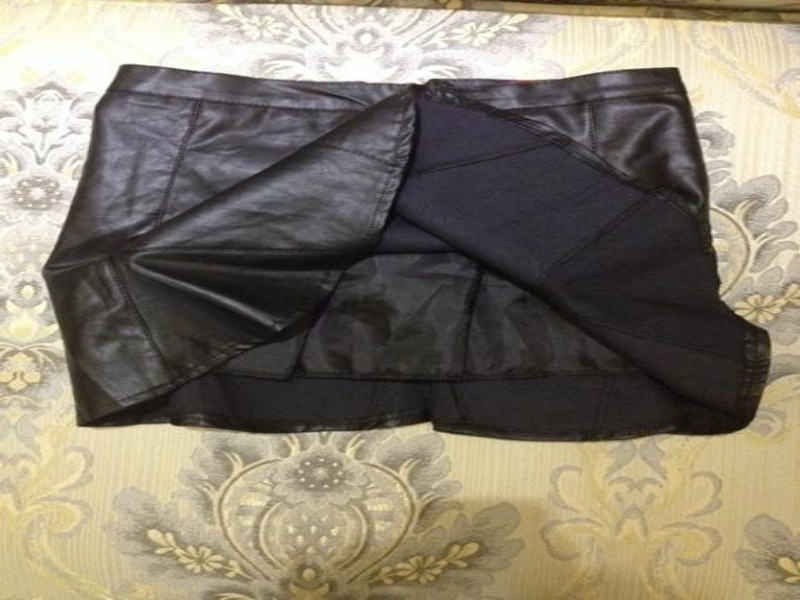skirt: (34, 60, 779, 449)
